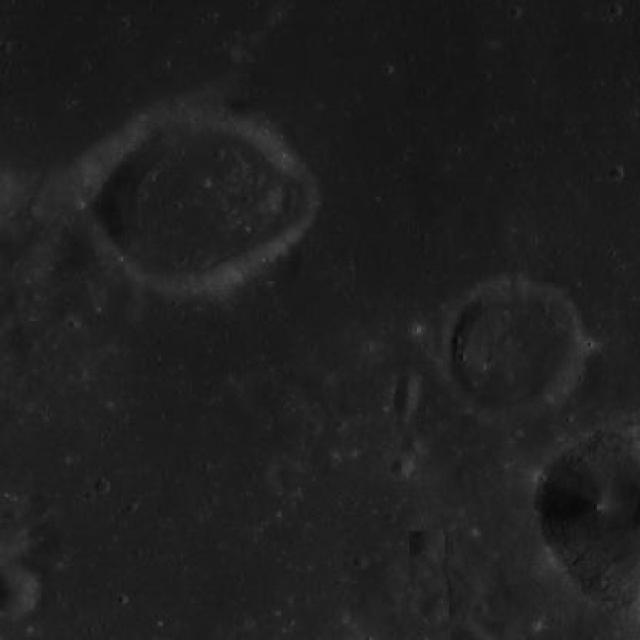crater: (102, 104, 296, 298), (444, 278, 584, 417), (0, 563, 35, 617), (103, 278, 145, 320), (488, 606, 520, 639), (420, 586, 451, 617), (389, 384, 418, 414), (387, 452, 415, 479), (276, 462, 302, 488), (396, 372, 418, 396), (402, 434, 424, 456), (303, 414, 323, 434), (394, 416, 411, 432), (69, 366, 86, 380)
